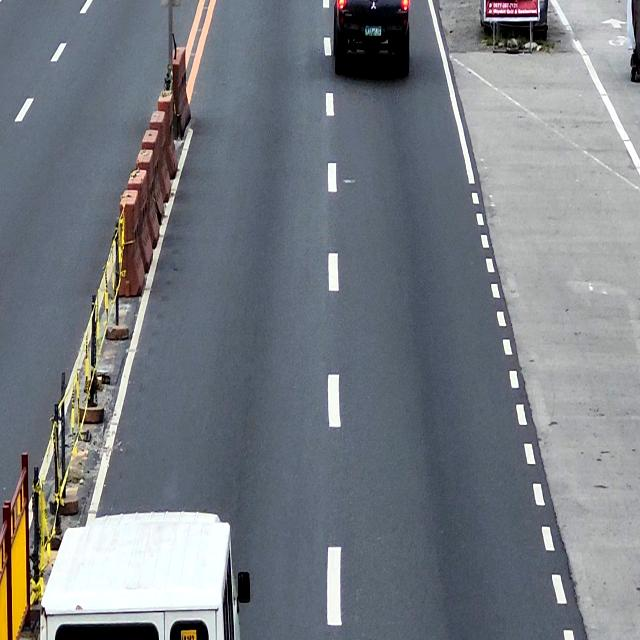Car: (333, 0, 410, 79)
License-Plate: (365, 24, 382, 38)
